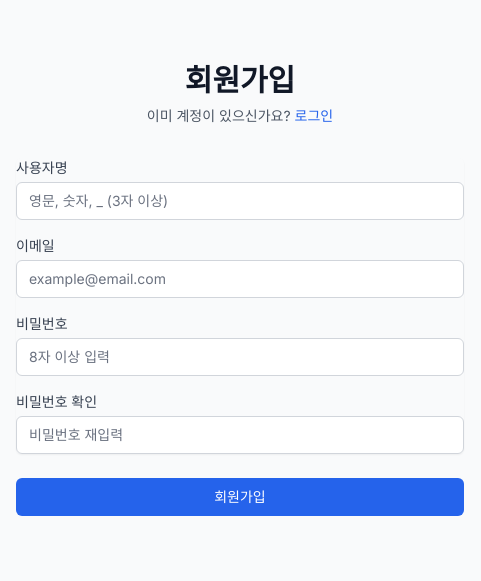
Test: RegisterPage › 폼 검증 - 사용자명 › 빈 사용자명으로 제출 시 에러 메시지가 표시된다
The image size is (481, 581).
Click the button "회원가입" at (240, 497), box [16,478,464,516]
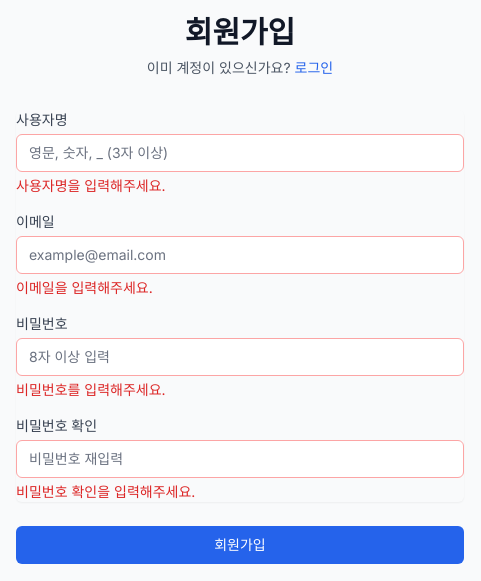
Expected: the text "사용자명을 입력해주세요." is shown, [16,177,166,194]
